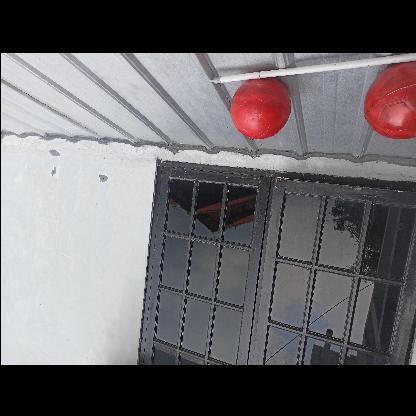red_ball: (229, 78, 289, 138)
